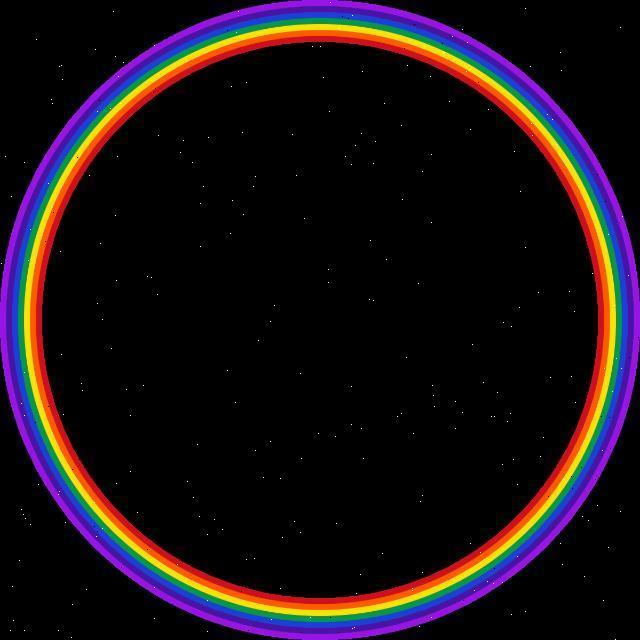Circle: (4, 1, 640, 640)
